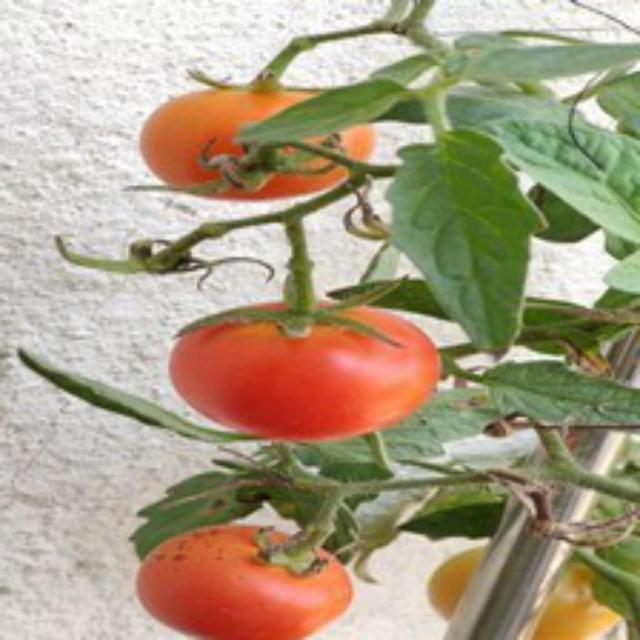tomato: (164, 281, 442, 458), (144, 67, 380, 208), (142, 503, 362, 637)
